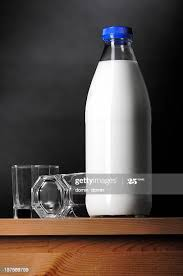milk: (82, 27, 156, 214)
